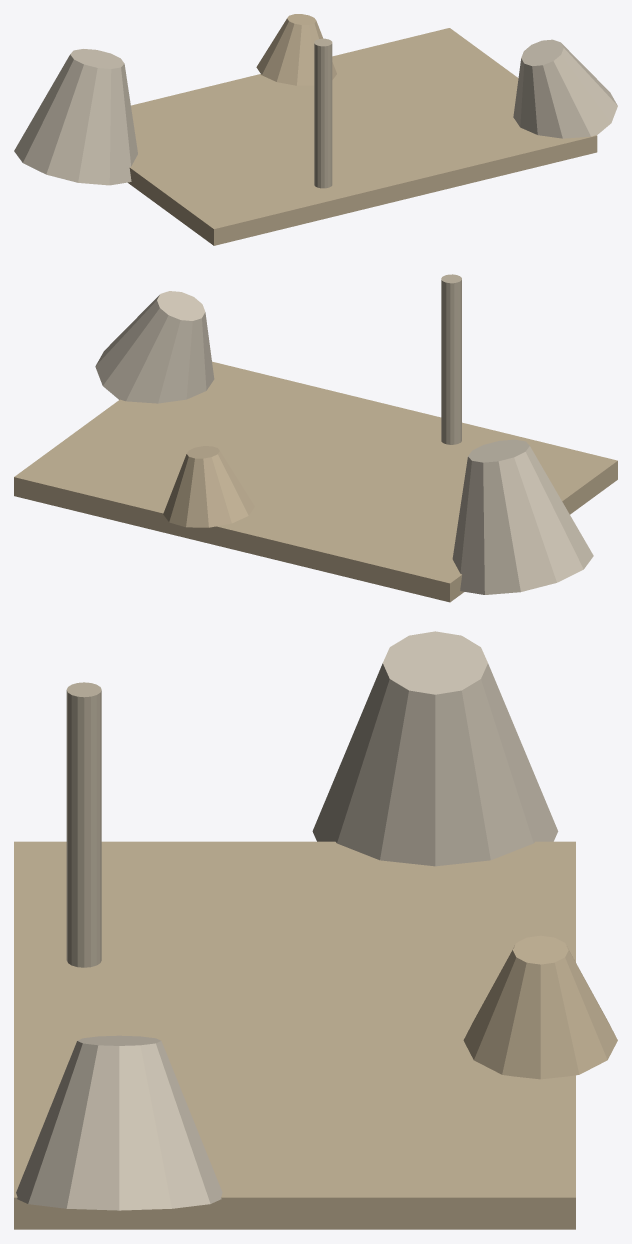
The model's file is howling-sprawl.glb.
3 renders of one model, top to bottom at view 1: azimuth 30°, elevation 25°; view 2: azimuth 150°, elevation 25°; view 3: azimuth 270°, elevation 25°, orthographic. The views are drawn at different scales.
Parts seen in each view (by area): view 1: sprawl-cracked-ground, sprawl-windrock-0, sprawl-windrock-1, sprawl-windrock-2, sprawl-flank-marker; view 2: sprawl-cracked-ground, sprawl-windrock-0, sprawl-windrock-1, sprawl-windrock-2, sprawl-flank-marker; view 3: sprawl-cracked-ground, sprawl-windrock-0, sprawl-windrock-1, sprawl-windrock-2, sprawl-flank-marker.
Boxes of the visible parts, bbox=[...] form: sprawl-cracked-ground: bbox=[128, 28, 597, 245]; sprawl-windrock-0: bbox=[14, 49, 137, 185]; sprawl-windrock-1: bbox=[513, 39, 617, 138]; sprawl-windrock-2: bbox=[256, 14, 336, 85]; sprawl-flank-marker: bbox=[314, 38, 332, 188]; sprawl-cracked-ground: bbox=[14, 361, 617, 602]; sprawl-windrock-0: bbox=[452, 439, 593, 594]; sprawl-windrock-1: bbox=[95, 291, 214, 403]; sprawl-windrock-2: bbox=[163, 446, 254, 527]; sprawl-flank-marker: bbox=[441, 274, 461, 444]; sprawl-cracked-ground: bbox=[14, 841, 575, 1229]; sprawl-windrock-0: bbox=[312, 631, 558, 866]; sprawl-windrock-1: bbox=[16, 1035, 222, 1210]; sprawl-windrock-2: bbox=[463, 935, 617, 1079]; sprawl-flank-marker: bbox=[66, 682, 101, 967].
Size of the model in its own units: 3.16 by 0.9662 by 1.72.
